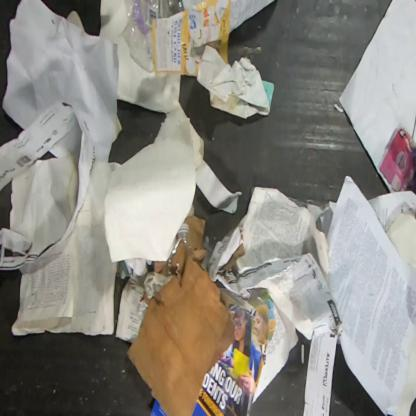cardboard: (126, 214, 235, 416), (144, 260, 176, 303), (150, 399, 169, 416)
rigid_plastic: (167, 222, 189, 277)
soft_plastic: (124, 0, 232, 77)
